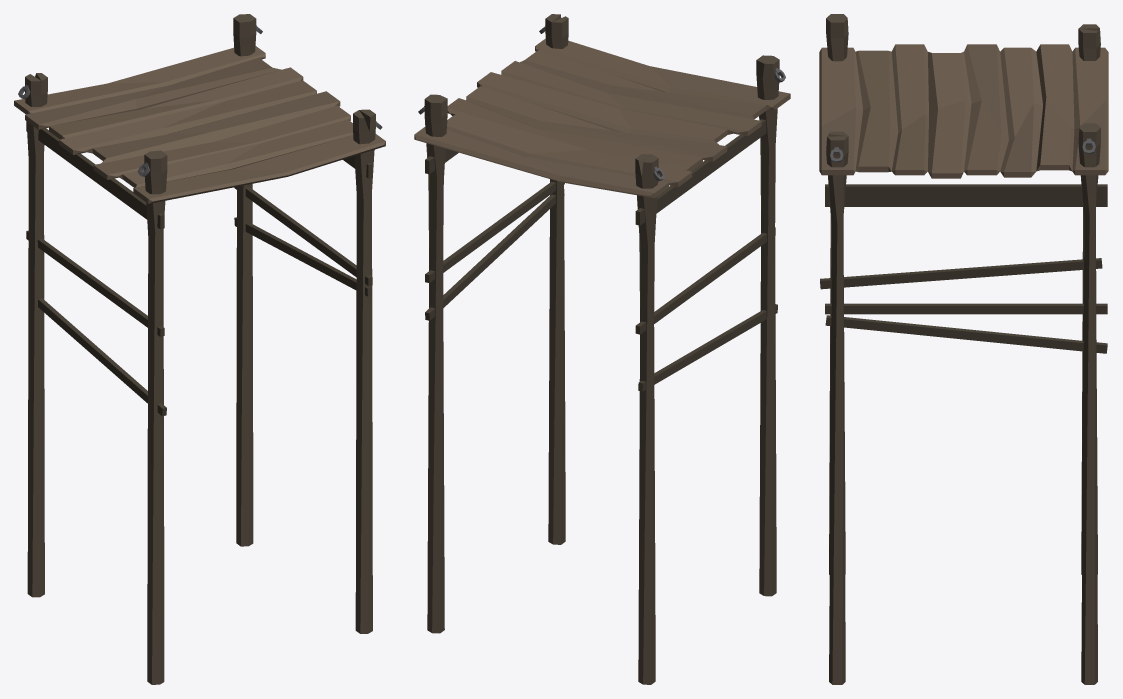
The model's file is SM_Bld_Dock_01.glb.
3 renders of one model, left to right at view 1: azimuth 30°, elevation 25°; view 2: azimuth 150°, elevation 25°; view 3: azimuth 270°, elevation 25°, orthographic. The views are drawn at different scales.
Visible parts, largest first — view 1: SM_Bld_Dock_01; view 2: SM_Bld_Dock_01; view 3: SM_Bld_Dock_01.
Boxes of the visible parts, <box> form: SM_Bld_Dock_01: <box>14,14,385,684</box>; SM_Bld_Dock_01: <box>414,14,790,684</box>; SM_Bld_Dock_01: <box>819,14,1108,684</box>.
Bounding box in the file's own units: 0.0381 × 0.0767 × 0.0362.
